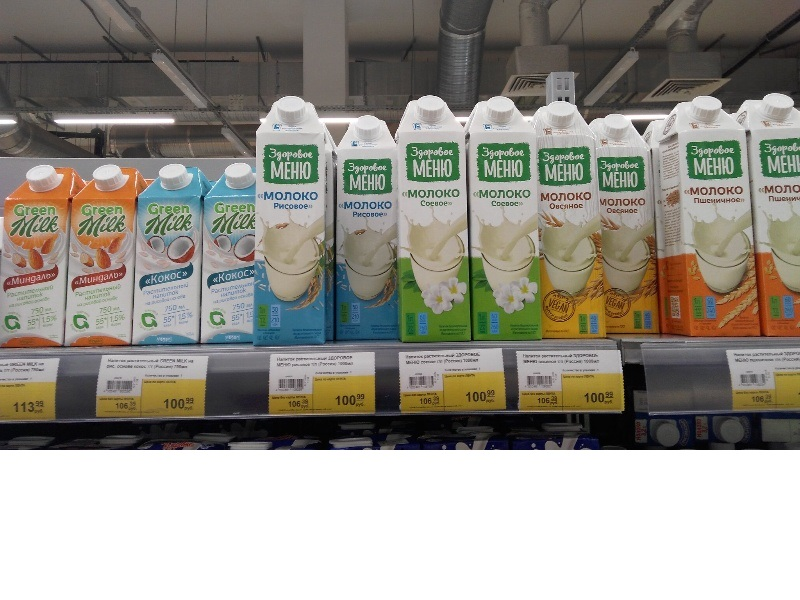milk: (653, 95, 769, 347), (241, 92, 340, 353), (385, 87, 482, 352), (457, 95, 552, 348), (530, 95, 612, 358), (330, 112, 414, 359)
